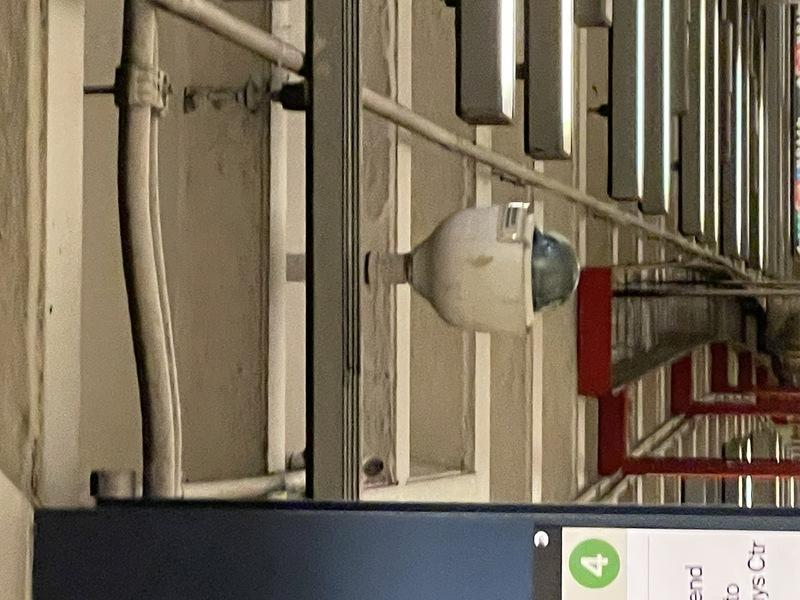dome: (254, 522, 409, 584)
